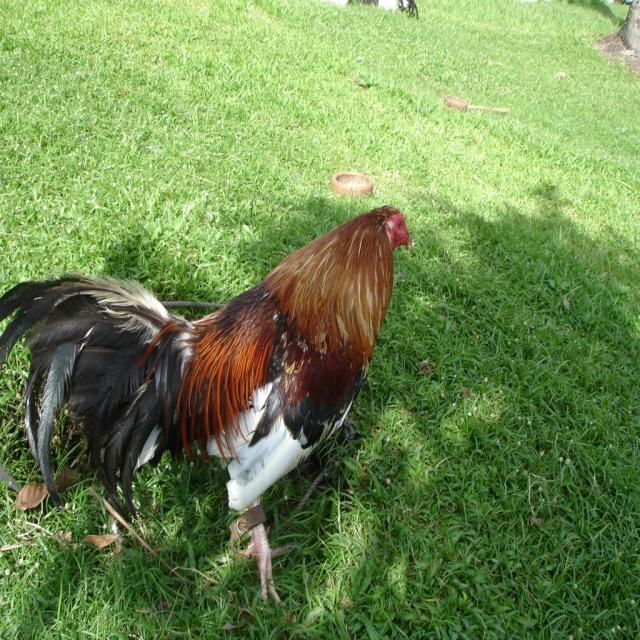Chicken: (0, 205, 413, 607)
